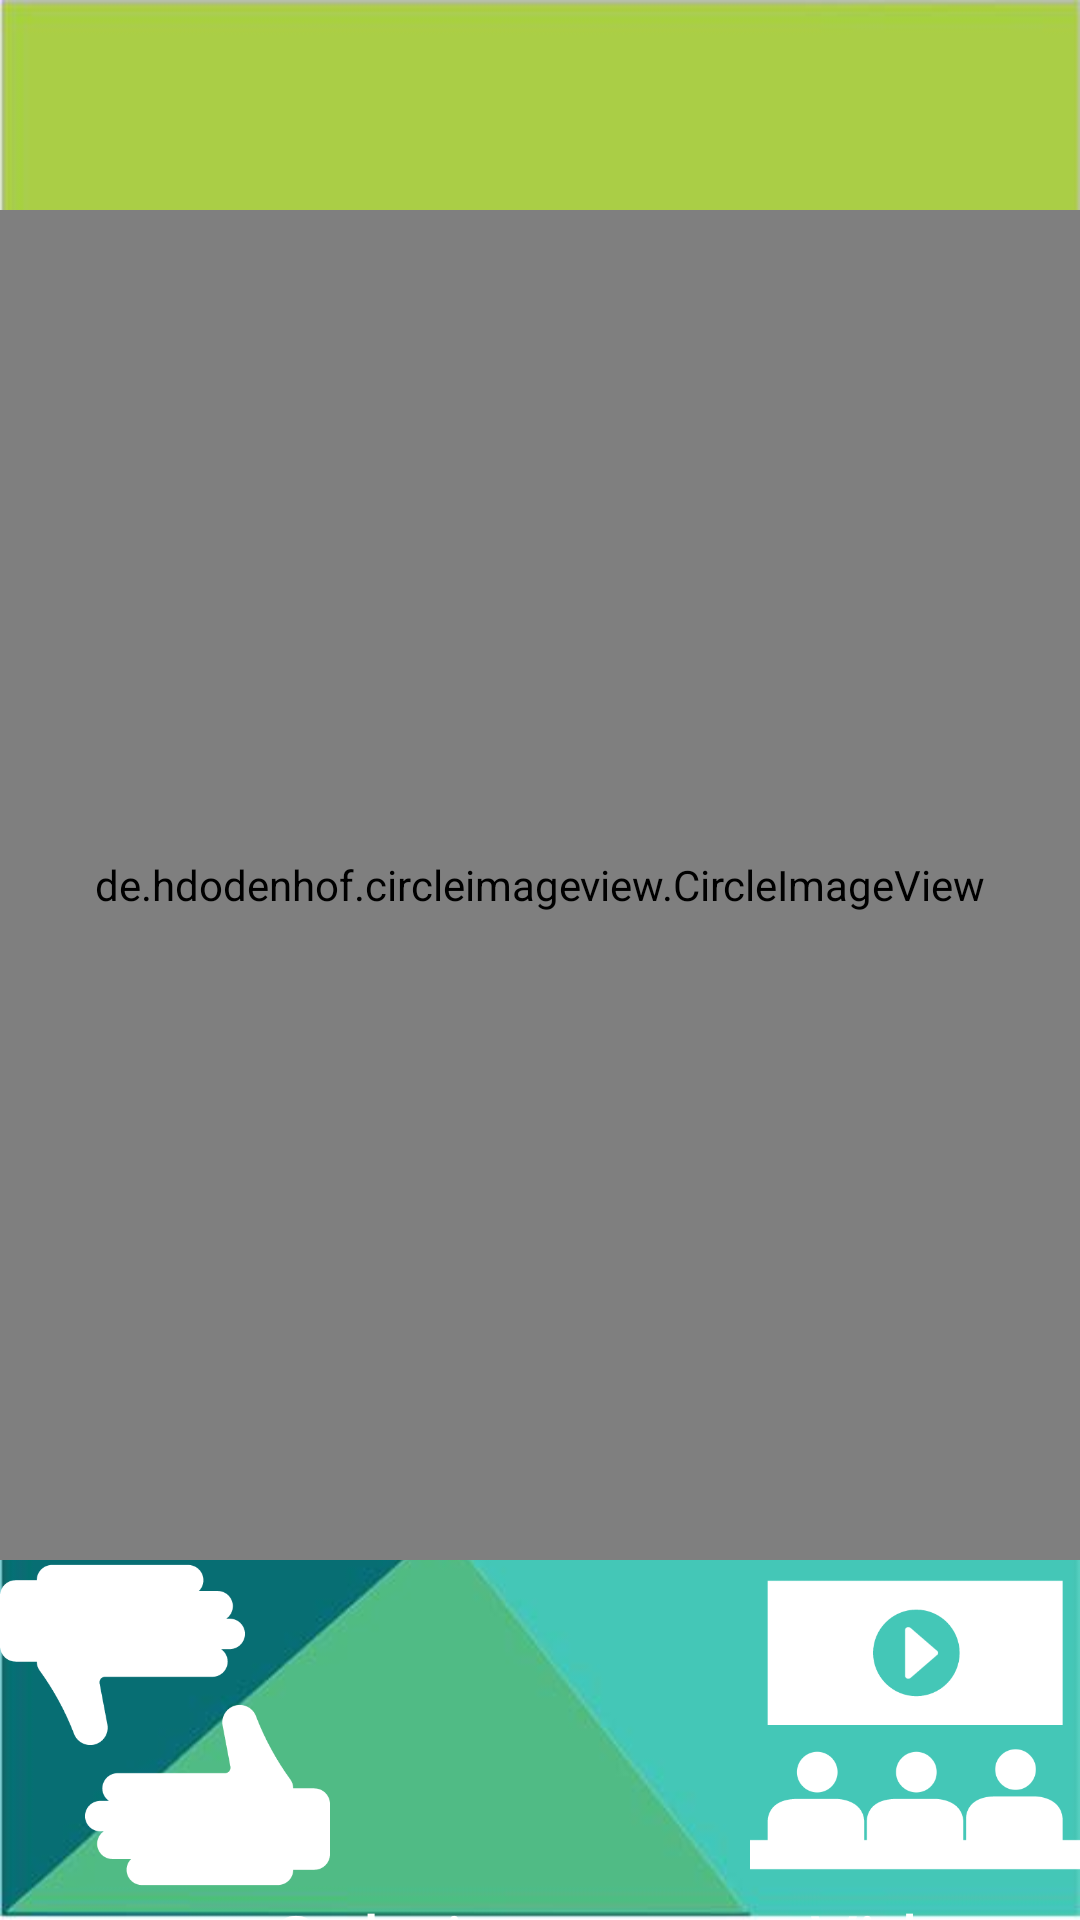

Screen size 1080w x 1920h. Icon name, then its center in pixels as (x,y):
gesture: (165,1725)
